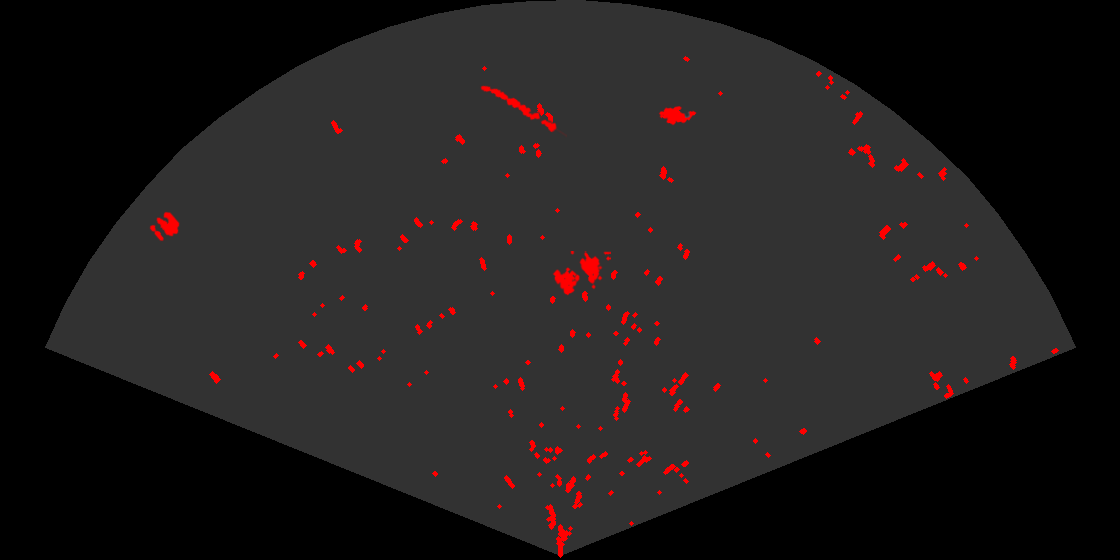AUV: (657, 104, 698, 127)
ball: (148, 210, 181, 243)
cage: (551, 251, 611, 297)
chain: (479, 84, 567, 138)
